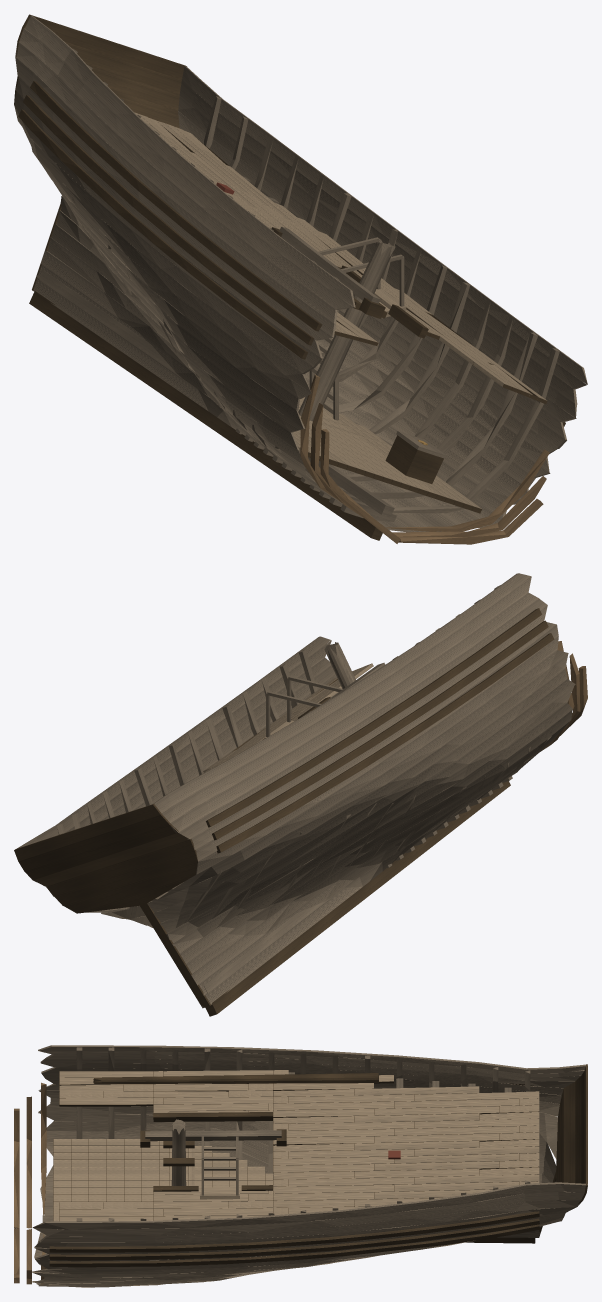
Rendered from ship_lod2.glb.
3 renders of one model, top to bottom at view 1: azimuth 30°, elevation 25°; view 2: azimuth 150°, elevation 25°; view 3: azimuth 270°, elevation 25°, orthographic. The views are drawn at different scales.
Parts seen in each view (by area): view 1: lod2_hull_strake_starboard_17, lod2_hull_strake_starboard_16, lod2_hull_strake_starboard_15, lod2_hull_strake_port_17, lod2_fractured_keel, lod2_hull_strake_port_16, lod2_hull_strake_port_15, lod2_hull_strake_port_14, lod2_hull_strake_starboard_10, lod2_hull_strake_starboard_09, lod2_wale_s_0, lod2_wale_s_1 (+45 smaller); view 2: lod2_hull_strake_starboard_17, lod2_hull_strake_starboard_16, lod2_hull_strake_starboard_15, lod2_hull_strake_starboard_09, lod2_hull_strake_starboard_10, lod2_hull_strake_starboard_08, lod2_hull_strake_starboard_07, lod2_hull_strake_starboard_06, lod2_hull_strake_starboard_05, lod2_hull_strake_starboard_04, lod2_hull_strake_starboard_03, lod2_fractured_keel (+24 smaller); view 3: lod2_hull_strake_port_17, lod2_hull_strake_port_16, lod2_hull_strake_port_15, lod2_hull_strake_starboard_17, lod2_wale_p_0, lod2_wale_p_1, lod2_wale_p_2, lod2_fallen_yard, lod2_hull_strake_starboard_14, lod2_hull_strake_starboard_13, lod2_hull_strake_port_14, lod2_hull_strake_starboard_16 (+92 smaller).
Boxes of the visible parts, left/top/right/bottom form: lod2_hull_strake_starboard_17: left=25, top=15, right=355, bottom=307; lod2_hull_strake_starboard_16: left=19, top=28, right=354, bottom=309; lod2_hull_strake_starboard_15: left=15, top=42, right=337, bottom=324; lod2_hull_strake_port_17: left=182, top=65, right=587, bottom=384; lod2_fractured_keel: left=29, top=291, right=382, bottom=540; lod2_hull_strake_port_16: left=179, top=80, right=586, bottom=389; lod2_hull_strake_port_15: left=178, top=95, right=577, bottom=404; lod2_hull_strake_port_14: left=178, top=111, right=576, bottom=417; lod2_hull_strake_starboard_10: left=23, top=128, right=314, bottom=374; lod2_hull_strake_starboard_09: left=34, top=152, right=311, bottom=392; lod2_wale_s_0: left=30, top=81, right=322, bottom=331; lod2_wale_s_1: left=23, top=95, right=314, bottom=345; lod2_hull_strake_starboard_17: left=152, top=573, right=531, bottom=813; lod2_hull_strake_starboard_16: left=162, top=576, right=531, bottom=822; lod2_hull_strake_starboard_15: left=170, top=593, right=538, bottom=832; lod2_hull_strake_starboard_09: left=147, top=650, right=568, bottom=912; lod2_hull_strake_starboard_10: left=157, top=636, right=558, bottom=899; lod2_hull_strake_starboard_08: left=154, top=654, right=568, bottom=922; lod2_hull_strake_starboard_07: left=160, top=669, right=567, bottom=932; lod2_hull_strake_starboard_06: left=166, top=679, right=575, bottom=943; lod2_hull_strake_starboard_05: left=172, top=685, right=574, bottom=953; lod2_hull_strake_starboard_04: left=180, top=703, right=572, bottom=963; lod2_hull_strake_starboard_03: left=185, top=710, right=572, bottom=973; lod2_fractured_keel: left=205, top=781, right=510, bottom=1016; lod2_hull_strake_port_17: left=32, top=1182, right=587, bottom=1229; lod2_hull_strake_port_16: left=33, top=1191, right=584, bottom=1236; lod2_hull_strake_port_15: left=40, top=1200, right=580, bottom=1242; lod2_hull_strake_starboard_17: left=38, top=1045, right=587, bottom=1073; lod2_wale_p_0: left=49, top=1211, right=539, bottom=1252; lod2_wale_p_1: left=49, top=1218, right=539, bottom=1260; lod2_wale_p_2: left=49, top=1224, right=539, bottom=1267; lod2_fallen_yard: left=93, top=1073, right=378, bottom=1083; lod2_hull_strake_starboard_14: left=40, top=1058, right=574, bottom=1087; lod2_hull_strake_starboard_13: left=41, top=1063, right=563, bottom=1095; lod2_hull_strake_port_14: left=35, top=1207, right=573, bottom=1248; lod2_hull_strake_starboard_16: left=39, top=1051, right=584, bottom=1077.
Size of the model in its own units: 6.2 by 5.5 by 14.65.
Materials: 6 (4 with a texture image).
